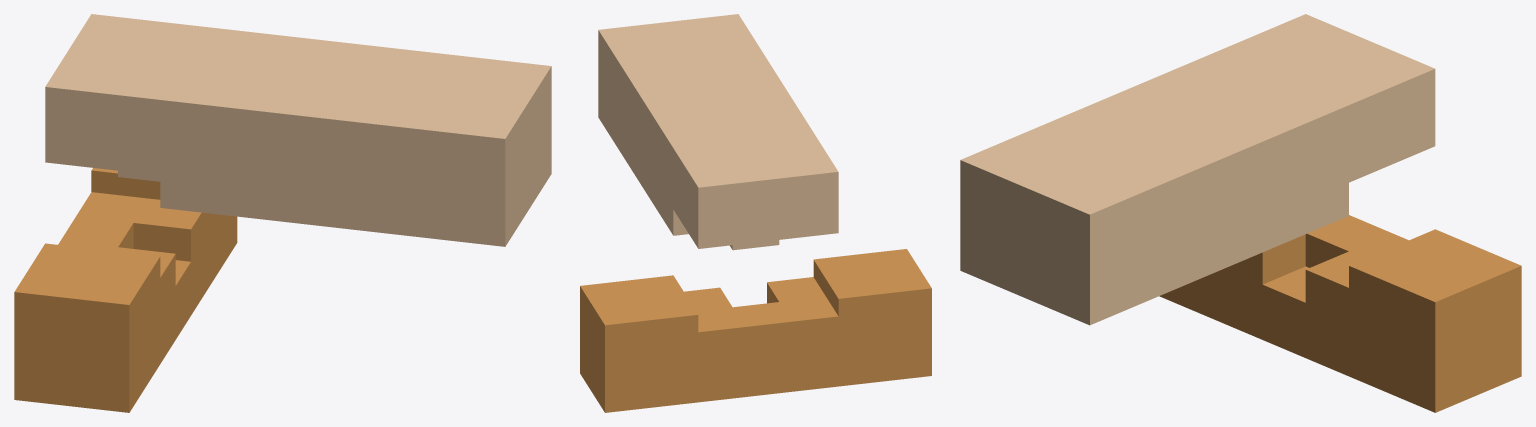
3 views of the same model, side by side, from view 1: azimuth 30°, elevation 25°; view 2: azimuth 150°, elevation 25°; view 3: azimuth 270°, elevation 25° (orthographic). The views are drawn at different scales.
Bounding box in the file's own units: 0.971 × 0.5176 × 0.971.
